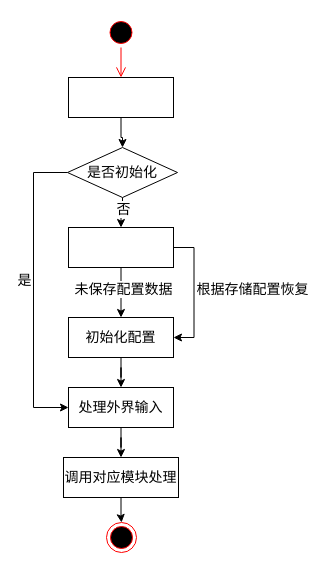
This 326x570 diagram has some shape labels left out. Here are the shapes that lost their labels. From the top down, the centre of each, then its label:
At point (121, 97): "外界输入".
At point (121, 247): "启动系统".
